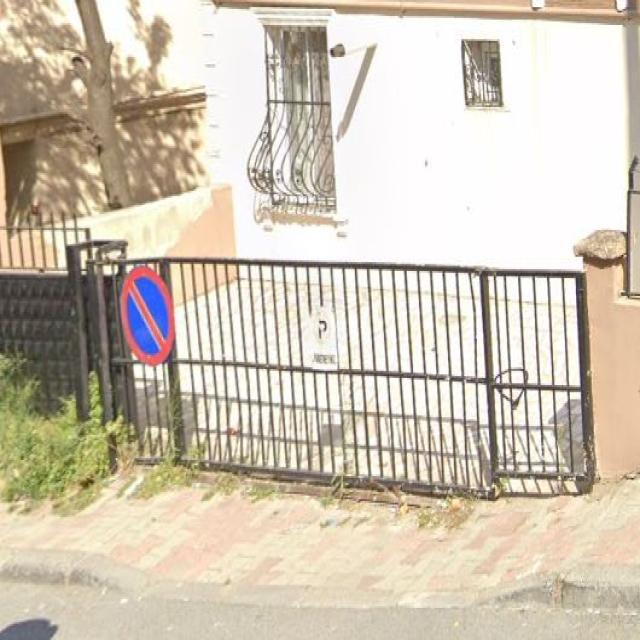parkyasak: (119, 266, 174, 366)
